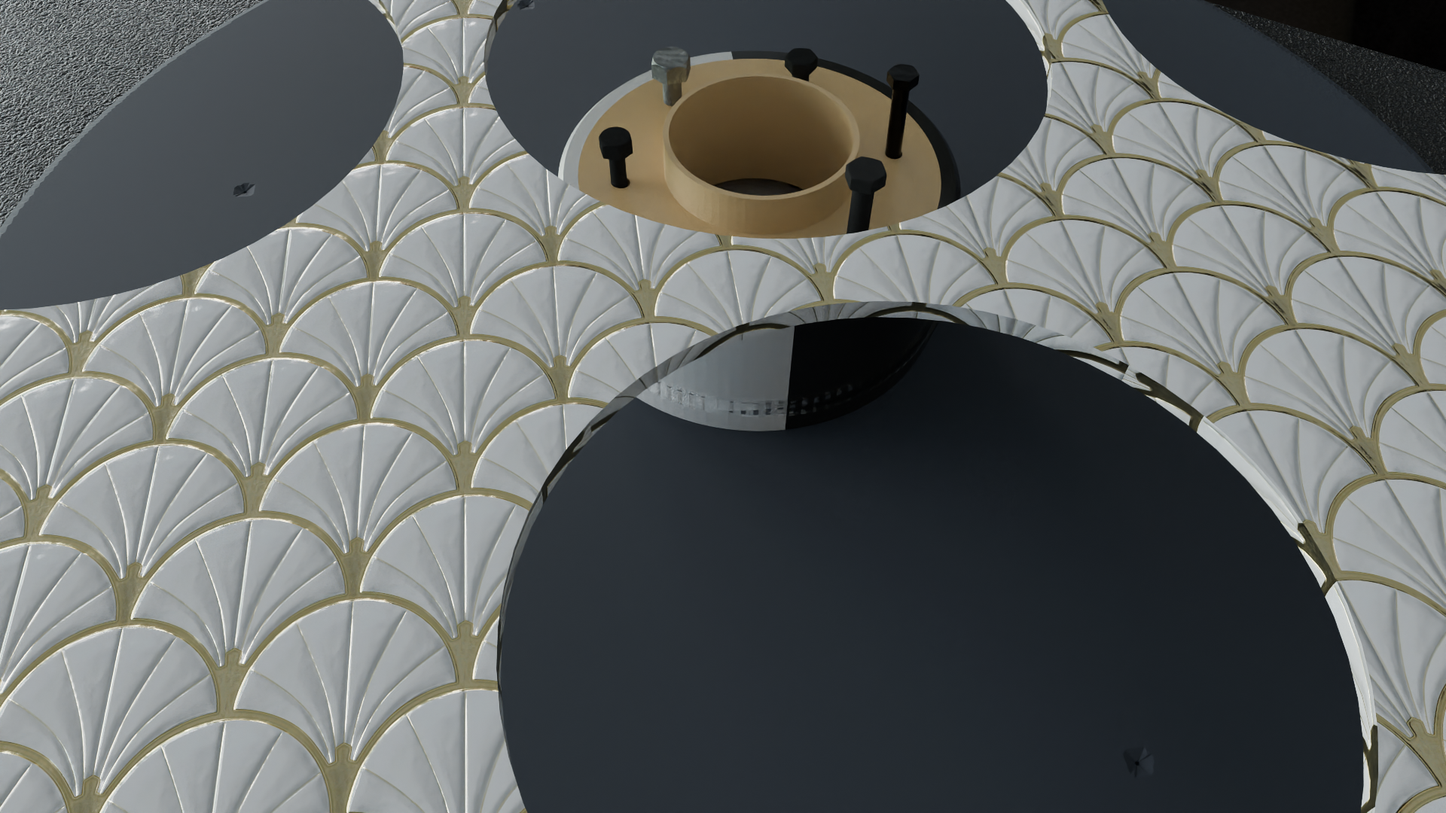bolt: (847, 157, 886, 184), (651, 47, 690, 73), (599, 126, 632, 150), (785, 48, 818, 66), (888, 64, 920, 82)
